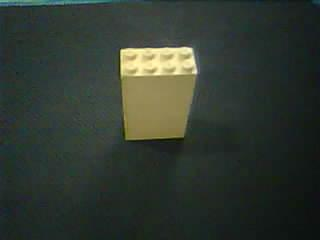lego: (119, 45, 198, 141)
